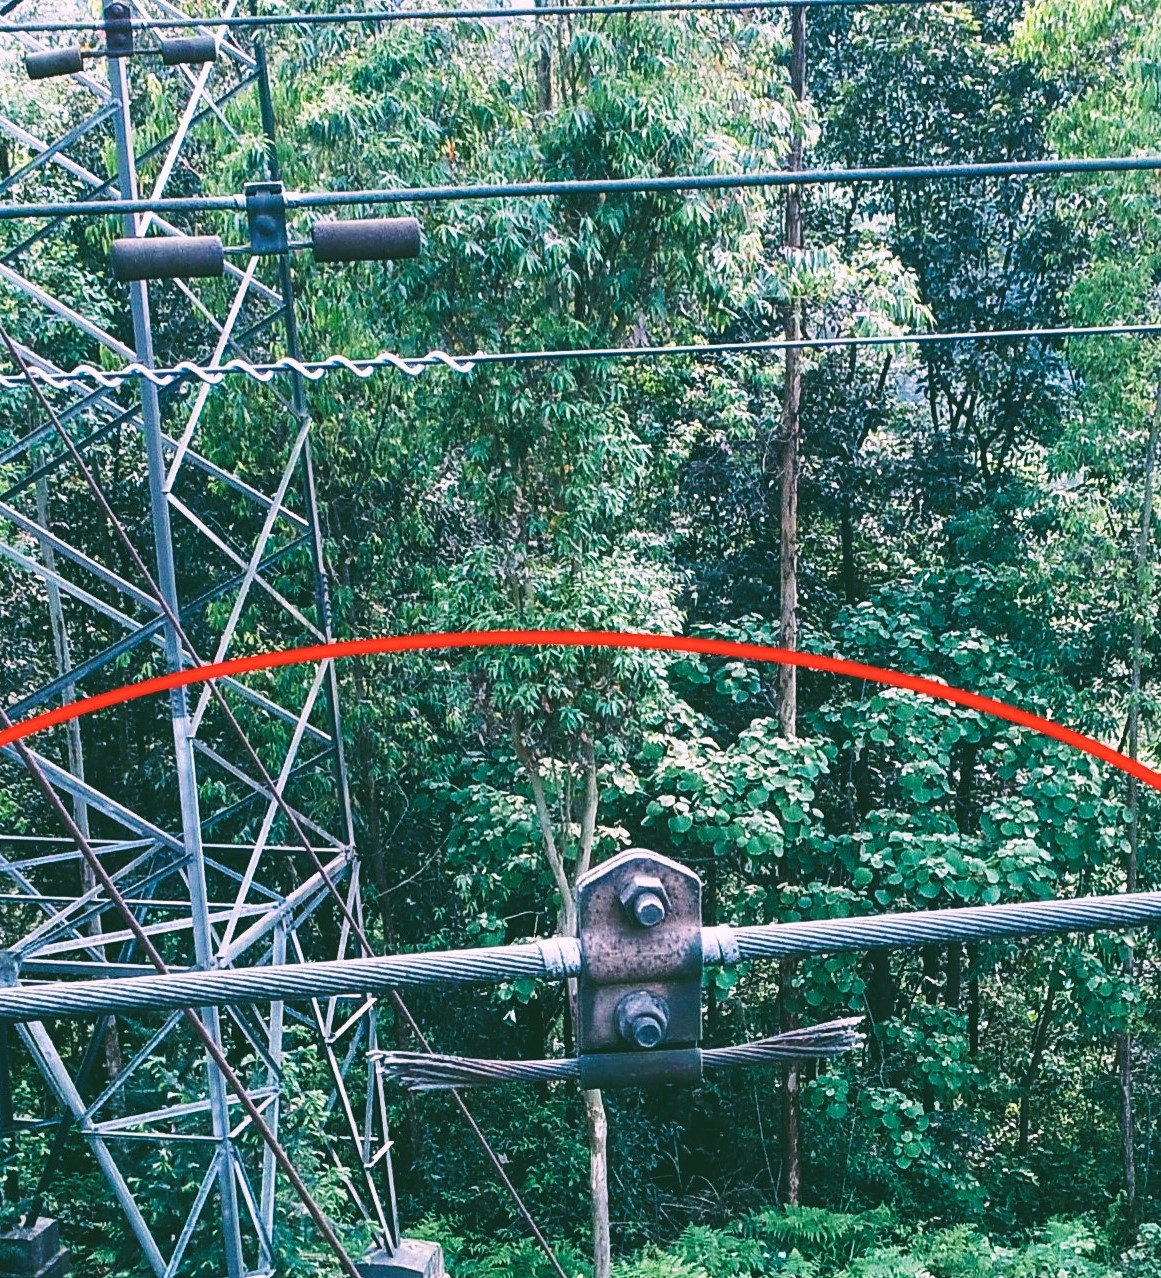Damage of shockproof hammer: (346, 817, 904, 1139)
